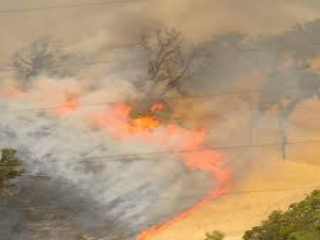fire: (116, 103, 198, 151), (54, 94, 88, 119)
